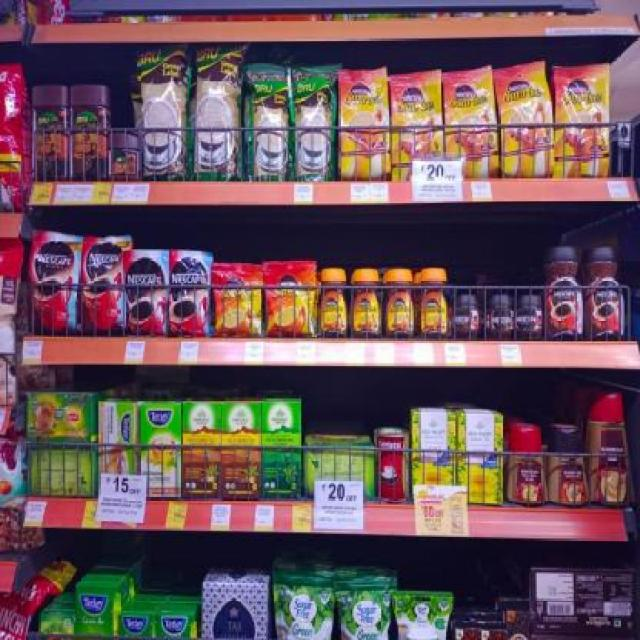Coffee: (498, 66, 554, 177), (556, 68, 609, 178), (444, 73, 498, 178), (391, 73, 443, 179), (340, 70, 391, 178), (28, 234, 78, 335), (81, 239, 127, 333), (586, 245, 626, 341), (546, 245, 585, 340), (265, 262, 312, 336), (126, 252, 168, 334), (170, 252, 208, 336), (216, 266, 262, 334), (351, 268, 380, 337), (418, 269, 448, 334), (319, 269, 347, 334), (385, 270, 413, 334), (484, 294, 513, 335), (515, 294, 543, 334), (450, 295, 476, 334)
